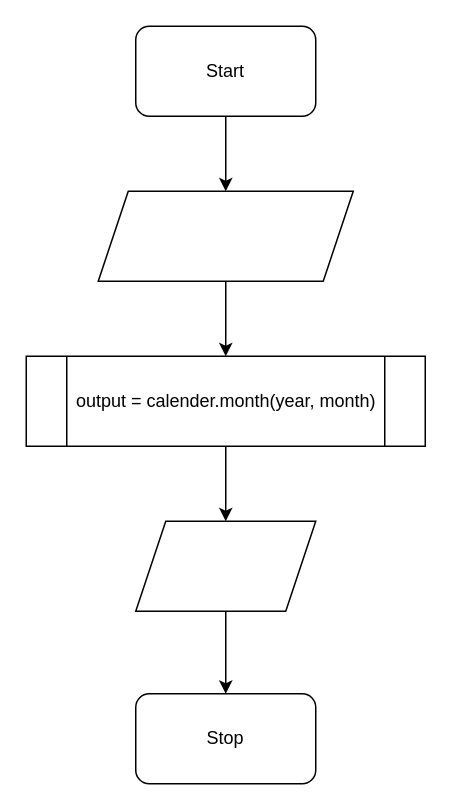
The diagram is 452 pixels wide and 810 high, and some of its shapes have lost their labels. The shapes that lost their labels are listed below. From the top down, each one's centre as x and y in pixels, then its label:
At point 225,235: "input int year, month".
At point 225,565: "print output".
